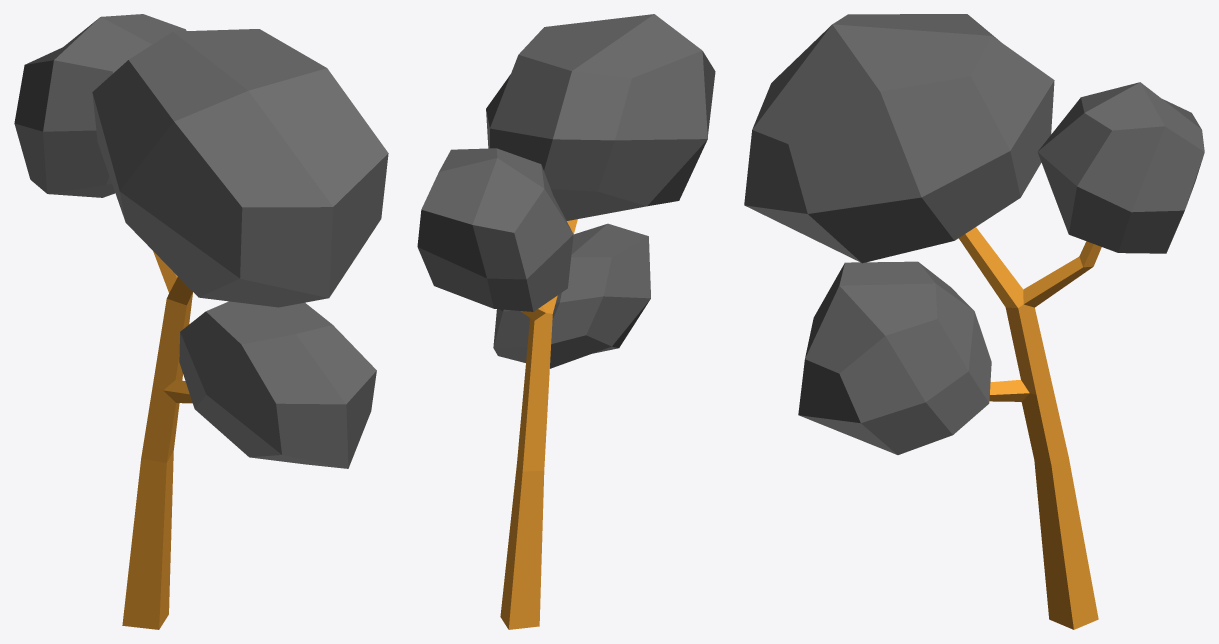
The model's file is oak_2.obj.
3 views of the same model, side by side, from view 1: azimuth 30°, elevation 25°; view 2: azimuth 150°, elevation 25°; view 3: azimuth 270°, elevation 25° (orthographic). The views are drawn at different scales.
Parts seen in each view (by area): view 1: oak_2; view 2: oak_2; view 3: oak_2.
Boxes of the visible parts, left/top/right/bottom form: oak_2: left=14, top=14, right=388, bottom=629; oak_2: left=417, top=14, right=715, bottom=629; oak_2: left=744, top=14, right=1204, bottom=629.
Bounding box in the file's own units: 13.53 × 33.02 × 23.67.
